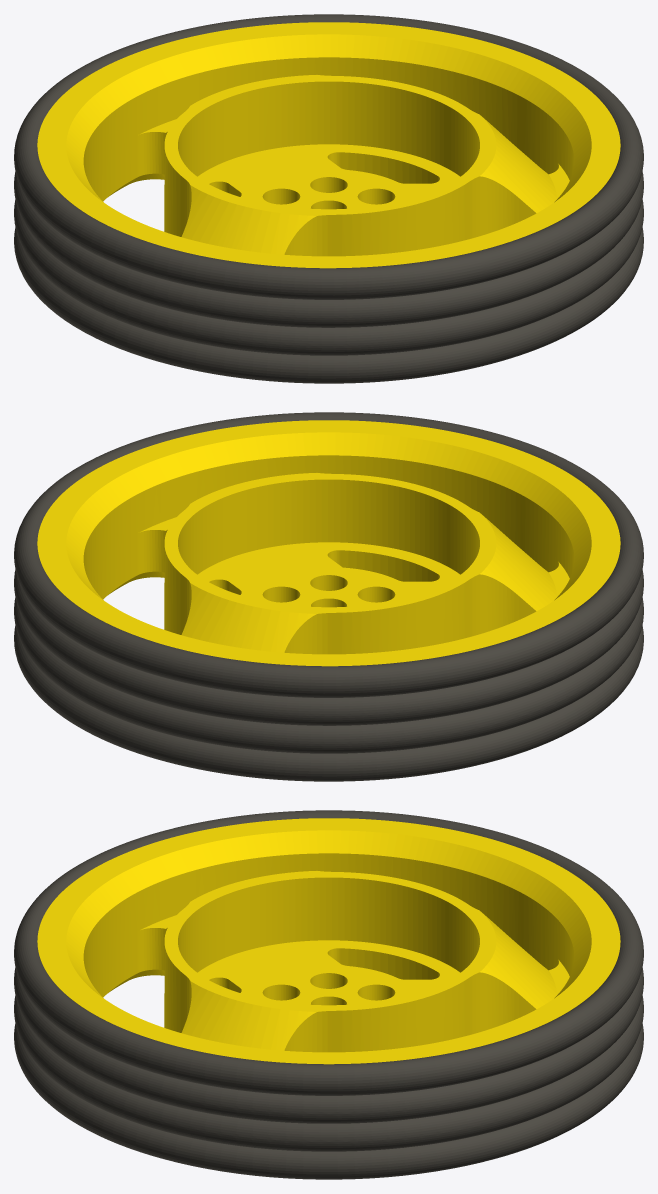
The model's file is Wheel_pinna_bot.dae.
3 renders of one model, top to bottom at view 1: azimuth 30°, elevation 25°; view 2: azimuth 150°, elevation 25°; view 3: azimuth 270°, elevation 25°, orthographic.
Parts seen in each view (by area): view 1: 5ea059fd15c192136e612c43 (×2); view 2: 5ea059fd15c192136e612c43 (×2); view 3: 5ea059fd15c192136e612c43 (×2).
Part boxes in pixels (left/top/right/bottom): 5ea059fd15c192136e612c43 (×2): left=14, top=14, right=643, bottom=383; 5ea059fd15c192136e612c43 (×2): left=14, top=412, right=643, bottom=781; 5ea059fd15c192136e612c43 (×2): left=14, top=810, right=643, bottom=1179.
Size of the model in its own units: 0.1091 by 0.1091 by 0.0216.
